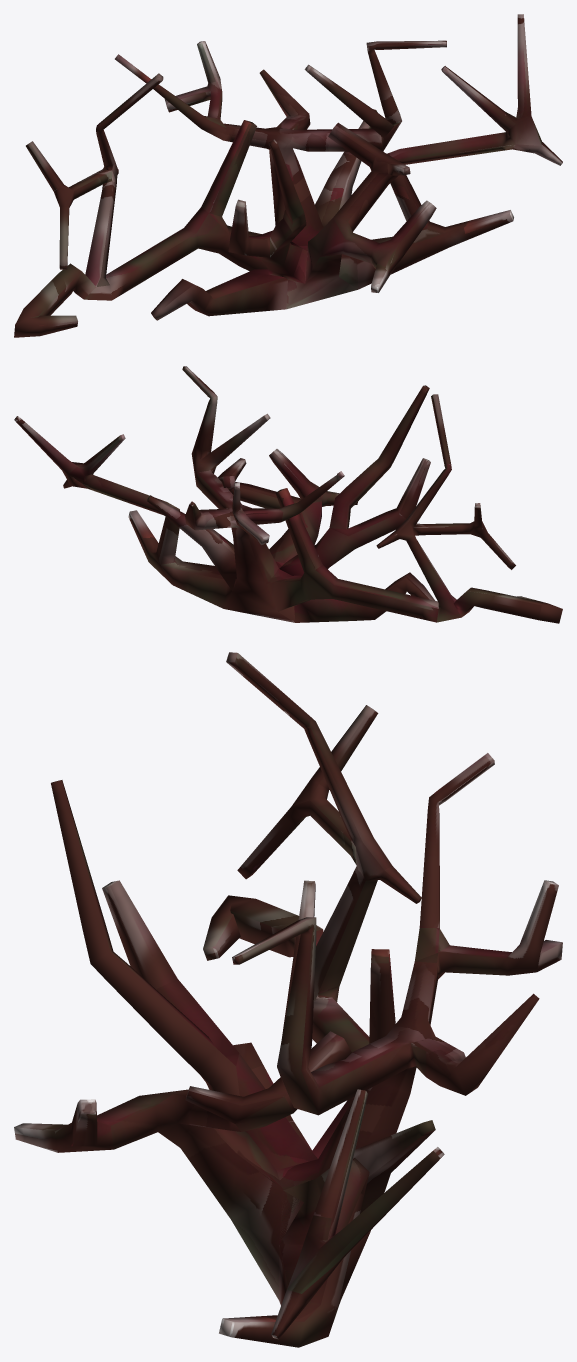
The model's file is deadBush02.dae.
3 views of the same model, one above another, from view 1: azimuth 30°, elevation 25°; view 2: azimuth 150°, elevation 25°; view 3: azimuth 270°, elevation 25° (orthographic). The views are drawn at different scales.
Parts seen in each view (by area): view 1: bush; view 2: bush; view 3: bush.
Part boxes in pixels (x1,y1,x2,y2): bush: [14, 14, 562, 337]; bush: [14, 366, 562, 623]; bush: [14, 652, 562, 1347].
Size of what is drawn, in the model's own units: 2.28 by 1.11 by 1.06.
1 material, 1 textured.
